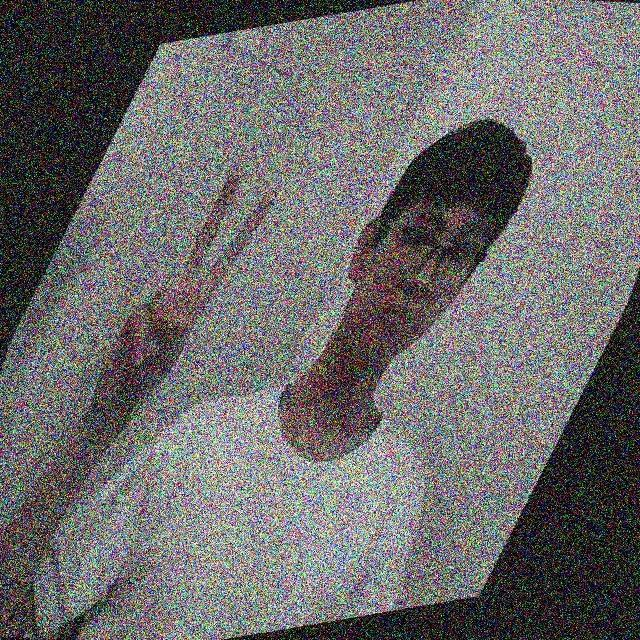V: (87, 160, 282, 412)
